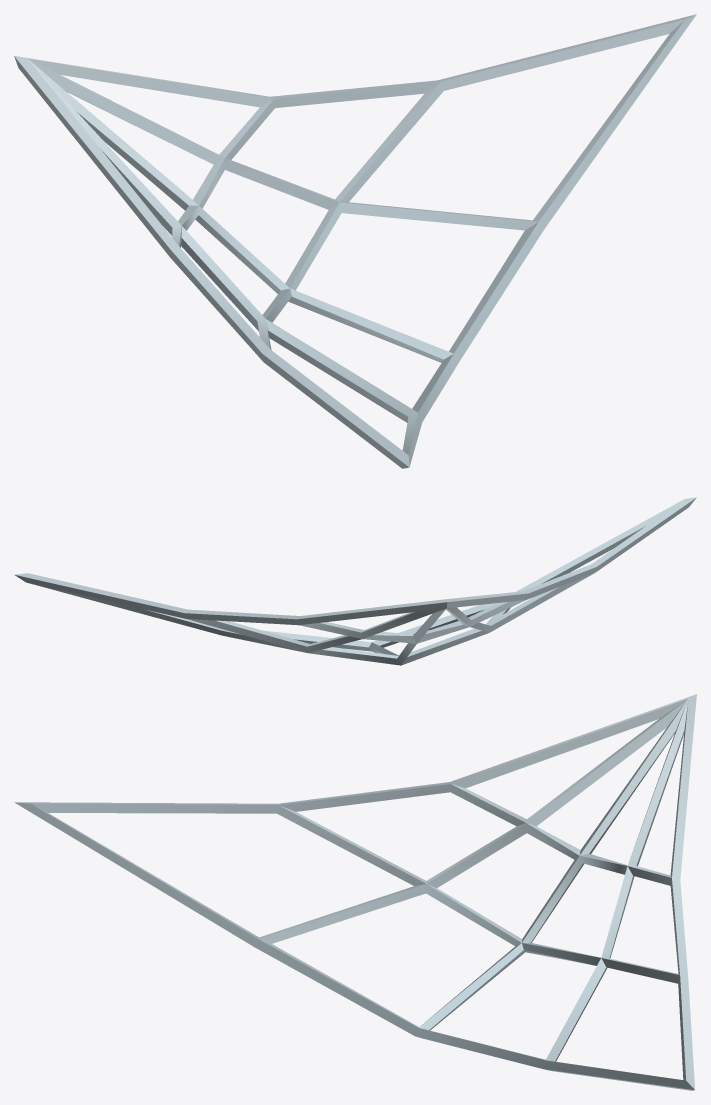
The model's file is cobweb_D.gltf.
3 views of the same model, one above another, from view 1: azimuth 30°, elevation 25°; view 2: azimuth 150°, elevation 25°; view 3: azimuth 270°, elevation 25° (orthographic). The views are drawn at different scales.
Visible parts, largest first — view 1: cobweb_D; view 2: cobweb_D; view 3: cobweb_D.
Part boxes in pixels (x1,y1,x2,y2): cobweb_D: (14,14,696,468); cobweb_D: (14,497,696,665); cobweb_D: (14,694,696,1090).
Bounding box in the file's own units: 2.62 × 0.9618 × 2.62.
Materials: 1 (1 with a texture image).
